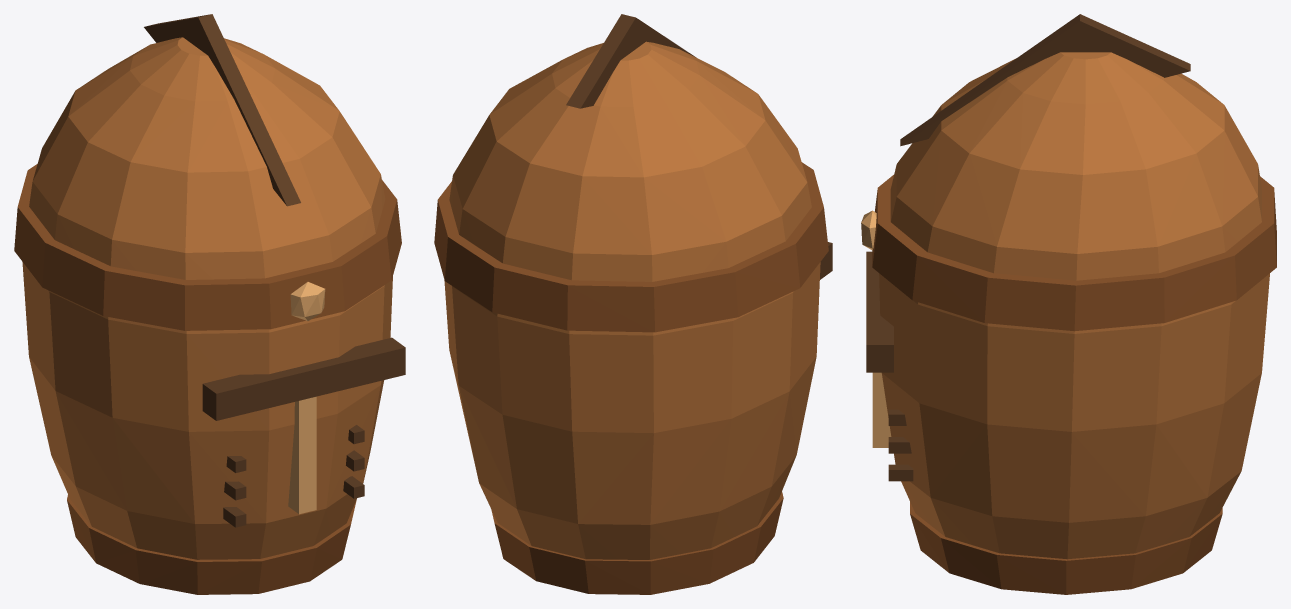
File: gear_bronze_fullhelm.glb
3 views of the same model, side by side, from view 1: azimuth 30°, elevation 25°; view 2: azimuth 150°, elevation 25°; view 3: azimuth 270°, elevation 25° (orthographic).
Visible parts, largest first — view 1: gear_bronze_fullhelm; view 2: gear_bronze_fullhelm; view 3: gear_bronze_fullhelm.
Boxes of the visible parts, x1,y1,x2,y2 form: gear_bronze_fullhelm: (14,14,405,594); gear_bronze_fullhelm: (434,14,832,594); gear_bronze_fullhelm: (861,14,1276,594).
Bounding box in the file's own units: 0.28 × 0.415 × 0.3006.
